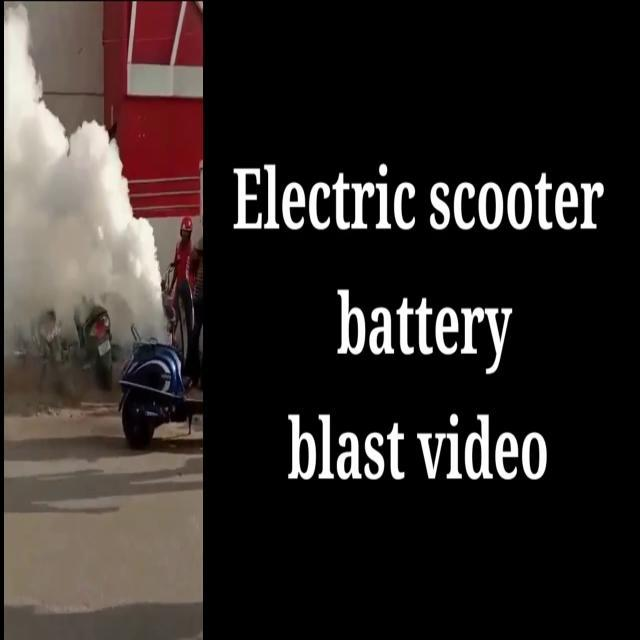Smoke: (3, 4, 166, 347)
